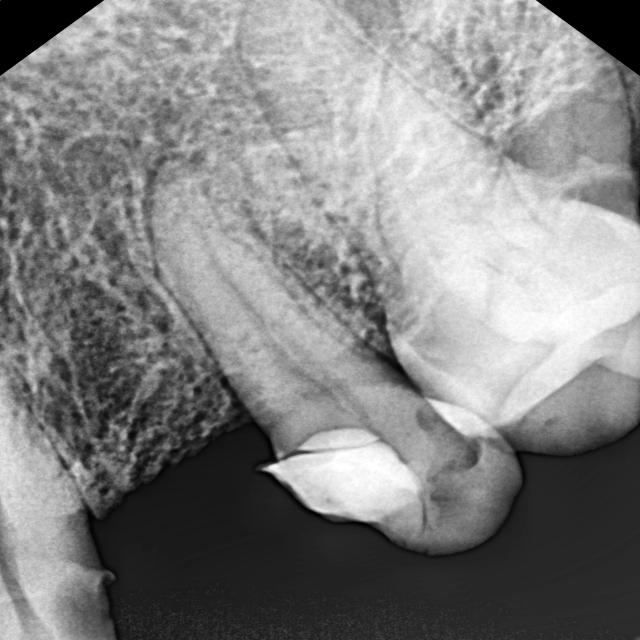Restoration: (248, 417, 438, 552)
